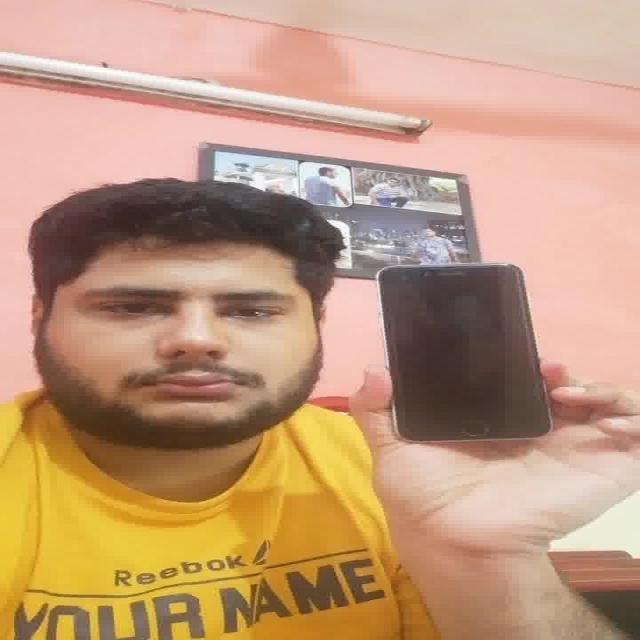Phone: (377, 260, 556, 445)
